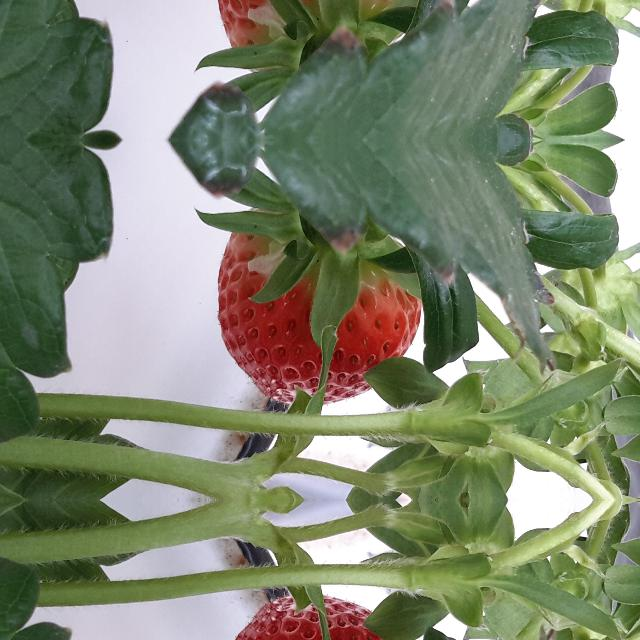Health_100: (215, 206, 421, 404), (215, 0, 421, 73), (215, 596, 421, 640)
